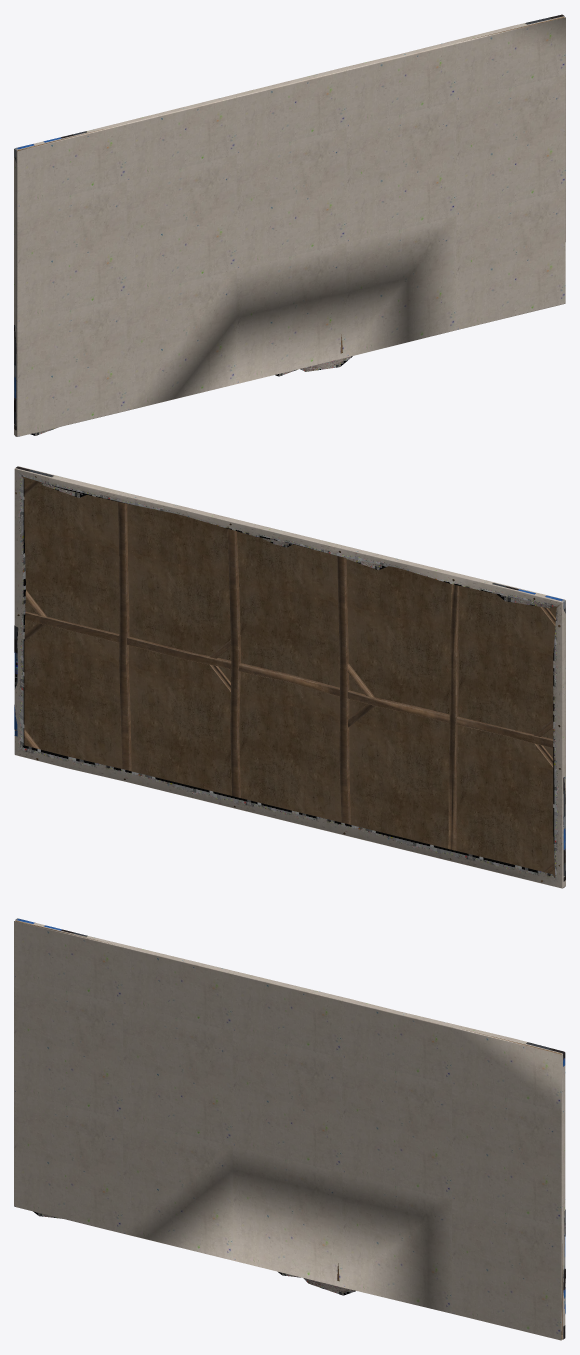
File: sign.artistcanvas.xxl.glb
3 renders of one model, top to bottom at view 1: azimuth 30°, elevation 25°; view 2: azimuth 150°, elevation 25°; view 3: azimuth 330°, elevation 25°, orthographic.
Parts seen in each view (by area): view 1: artists_canvas_XXL_500x250_LOD0; view 2: artists_canvas_XXL_500x250_LOD0; view 3: artists_canvas_XXL_500x250_LOD0.
Boxes of the visible parts, x1=… form: artists_canvas_XXL_500x250_LOD0: x1=14, y1=14, x2=565, y2=436; artists_canvas_XXL_500x250_LOD0: x1=14, y1=466, x2=565, y2=888; artists_canvas_XXL_500x250_LOD0: x1=14, y1=918, x2=565, y2=1340.
Size of the model in its own units: 5.01 by 2.6 by 0.0774.
Materials: 1 (1 with a texture image).
